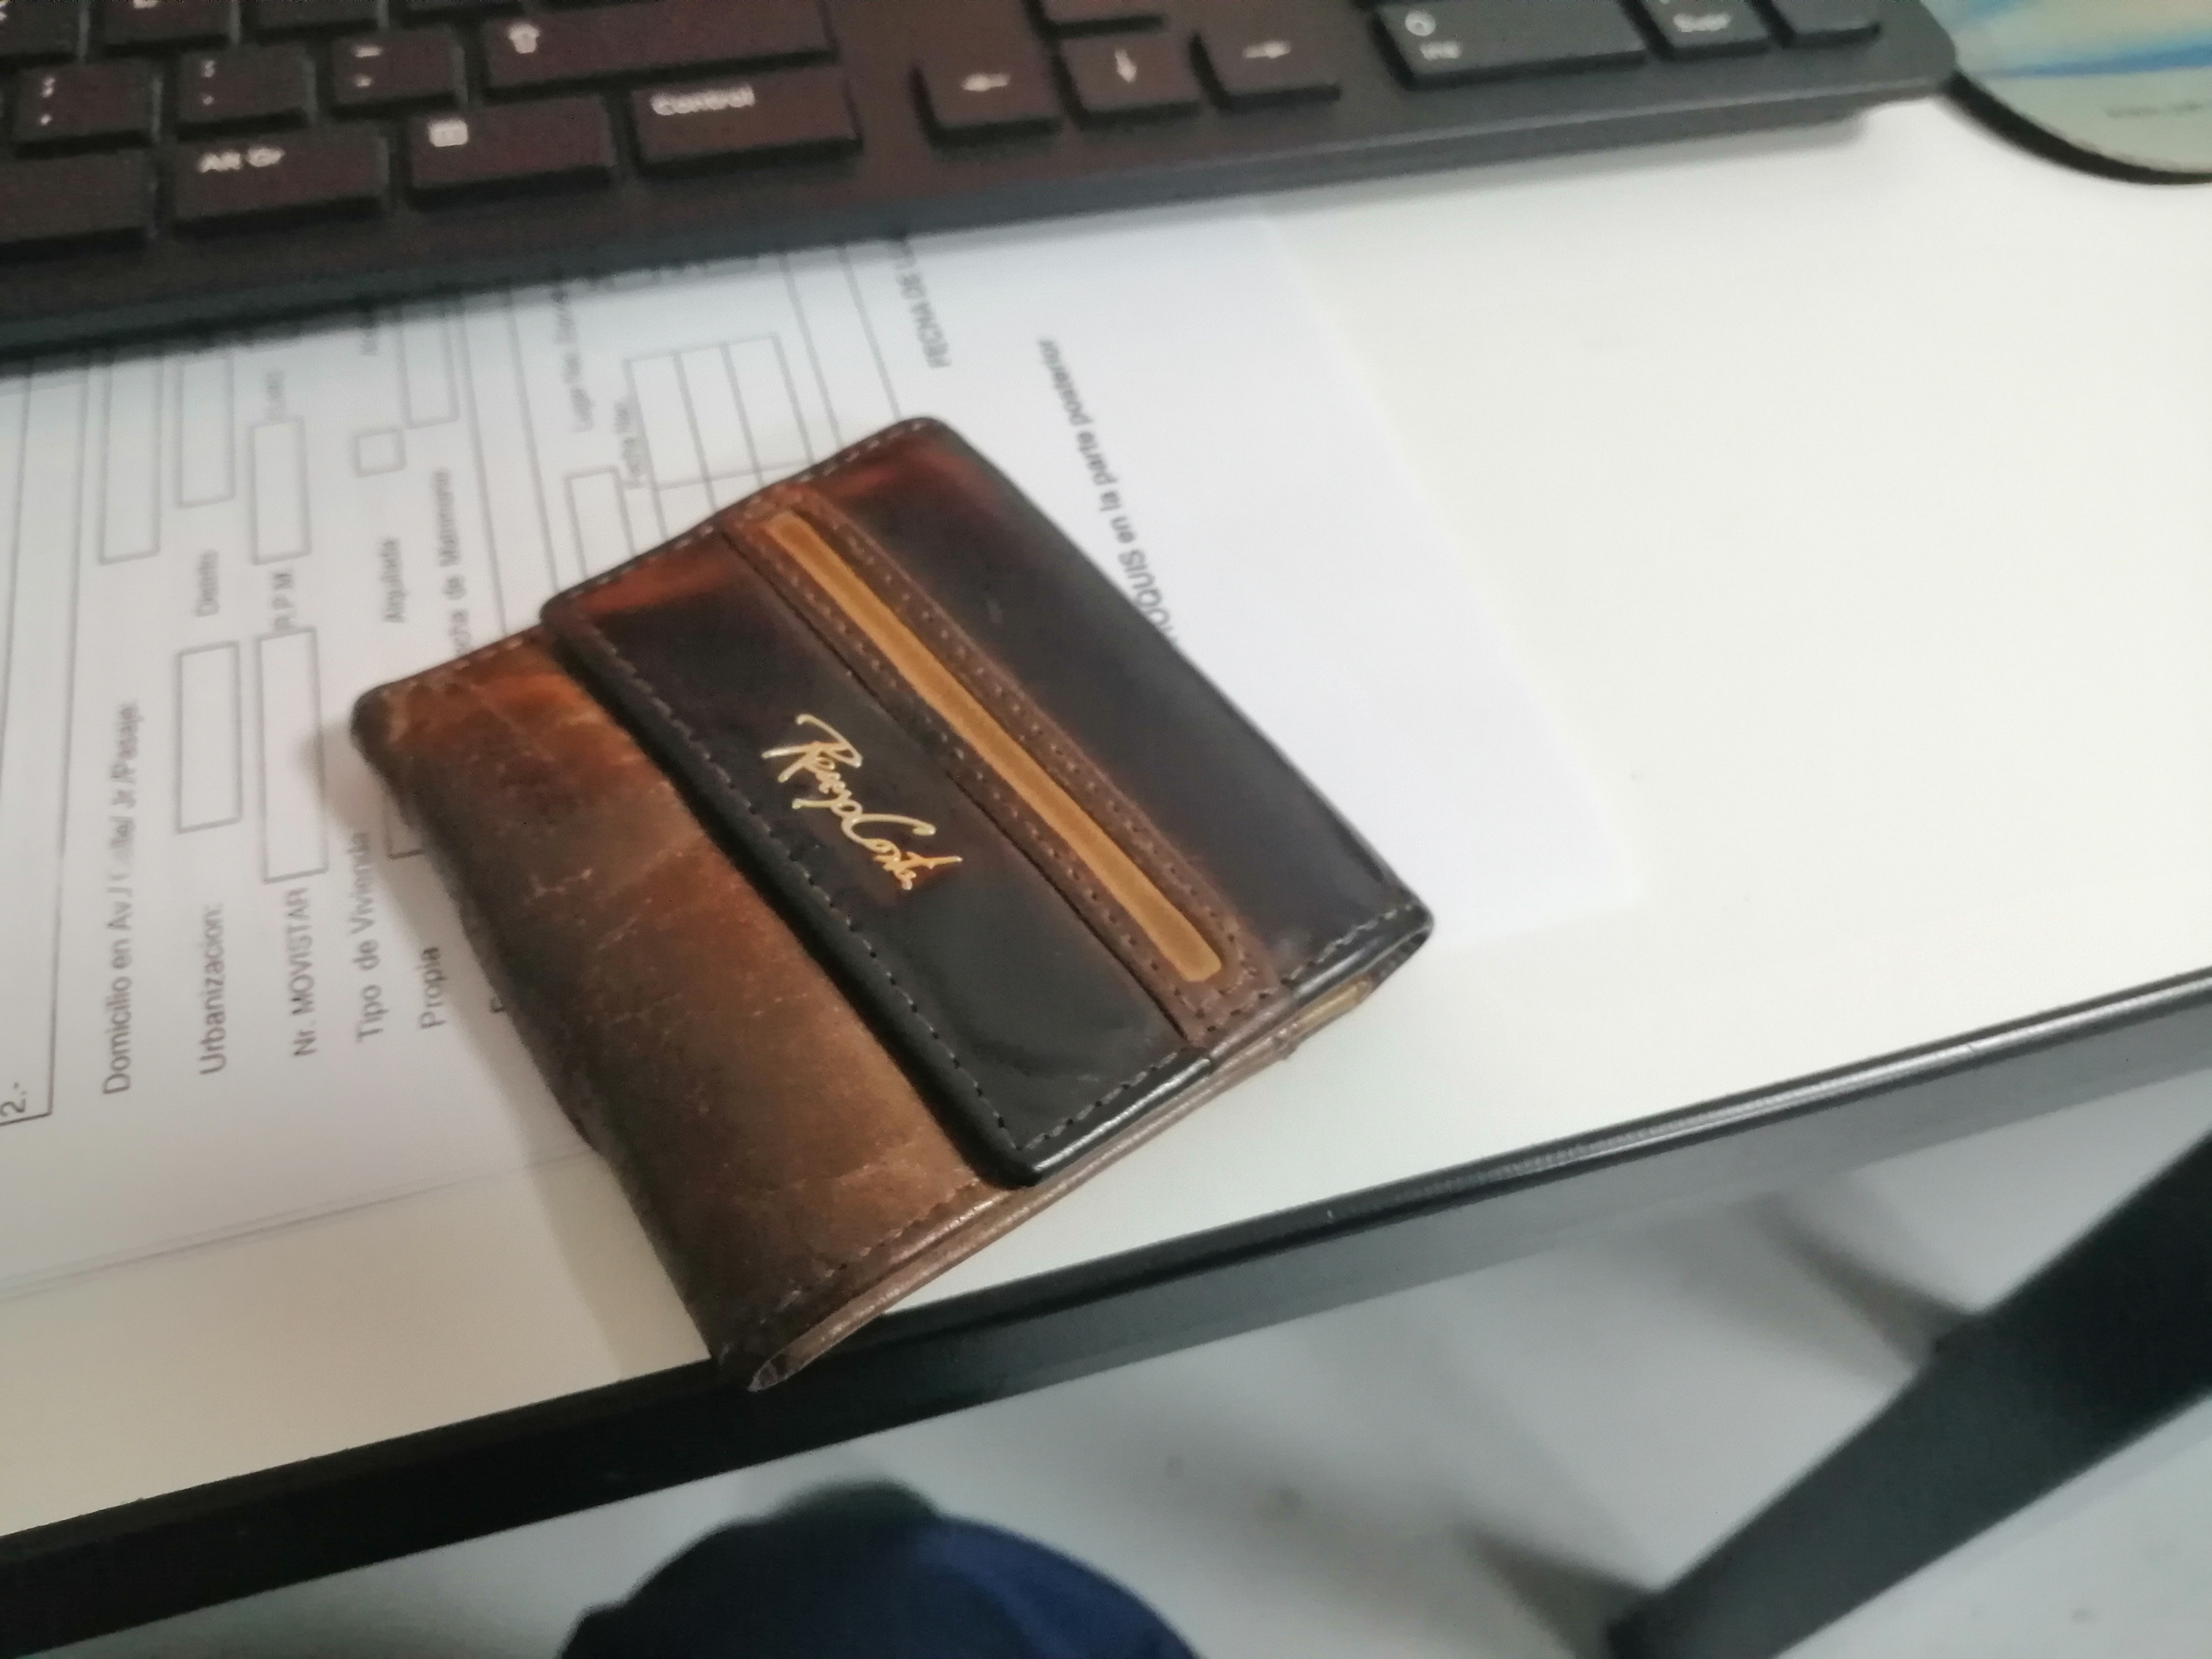monedero: (336, 397, 1453, 1427)
